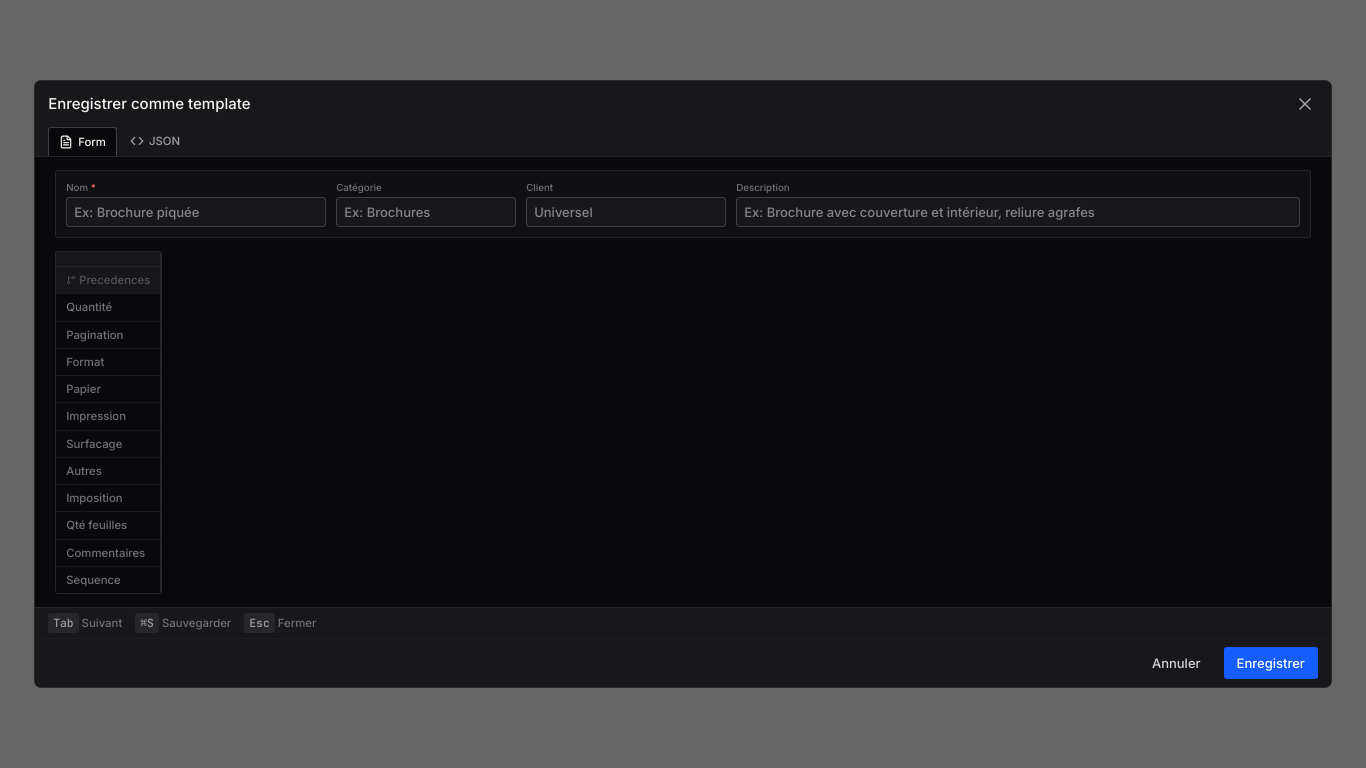
Test: JcfTemplateEditorModal › validation › shows error when saving without elements
Set a name
Type "Test Name" into the field with test id "template-field-name" at (196, 212), box x1=66 y1=197 x2=326 y2=227
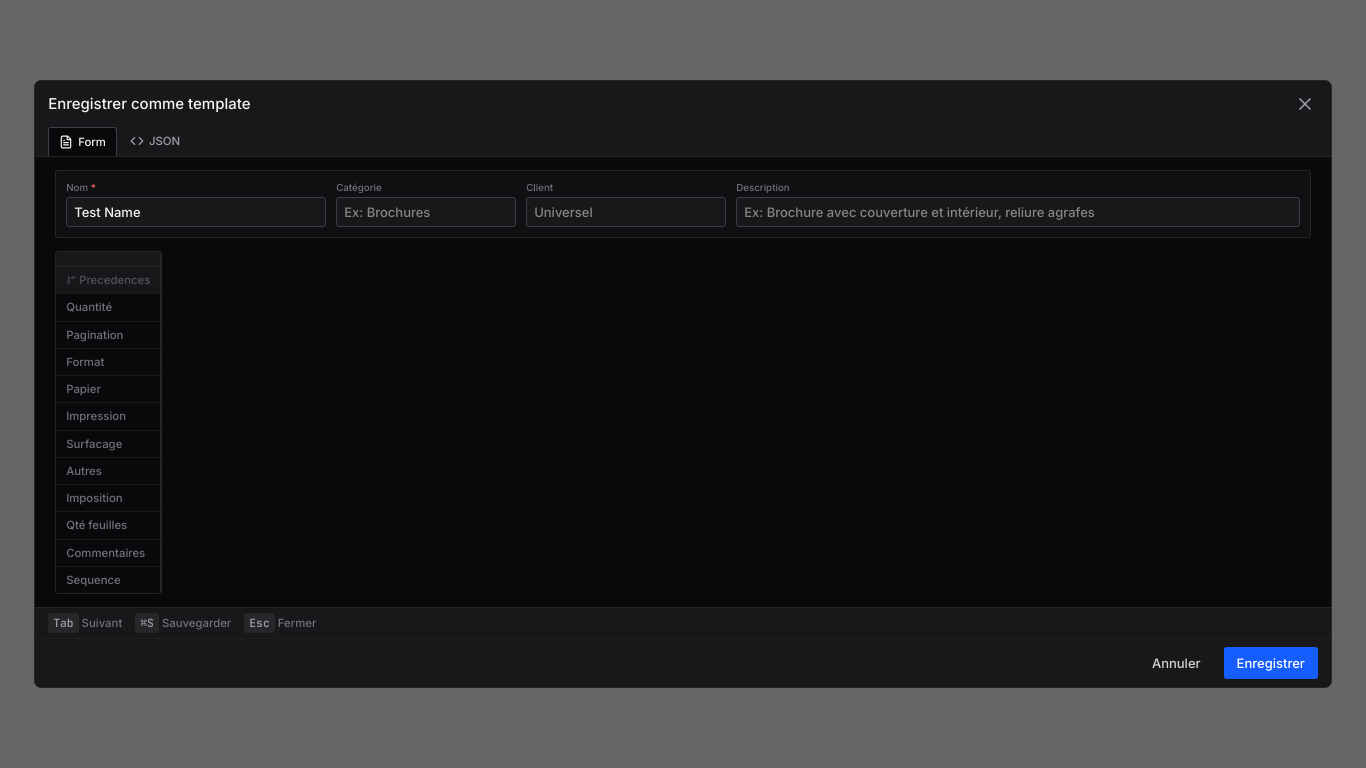
Click the button with test id "template-editor-save" at (1271, 663), box x1=1224 y1=647 x2=1318 y2=680
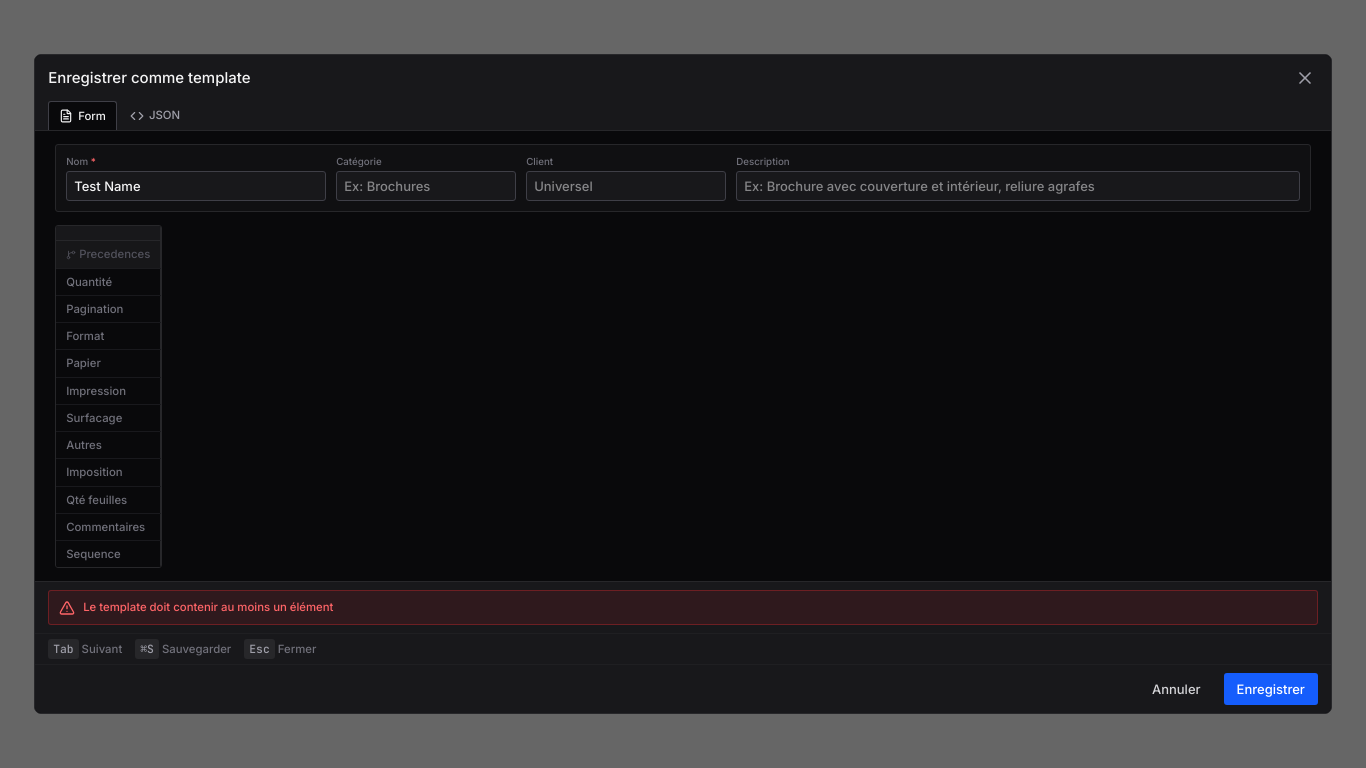
Result: the text "Le template doit contenir au moins un élément" is shown at x1=83 y1=599 x2=334 y2=616
